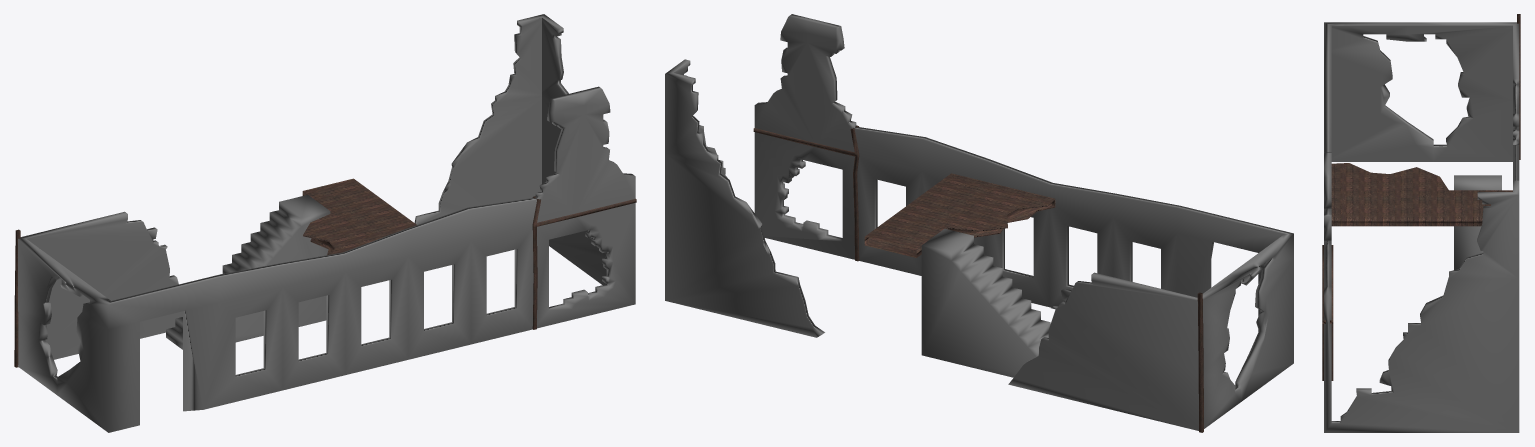
Rendered from Ruins12_lod01.fbx.
3 views of the same model, side by side, from view 1: azimuth 30°, elevation 25°; view 2: azimuth 150°, elevation 25°; view 3: azimuth 270°, elevation 25° (orthographic). The views are drawn at different scales.
Visible parts, largest first — view 1: Default_Layer; view 2: Default_Layer; view 3: Default_Layer.
Boxes of the visible parts, x1,y1,x2,y2 form: Default_Layer: [14, 14, 636, 432]; Default_Layer: [665, 14, 1293, 432]; Default_Layer: [1322, 14, 1520, 432].
Bounding box in the file's own units: 1684 × 680 × 512.
